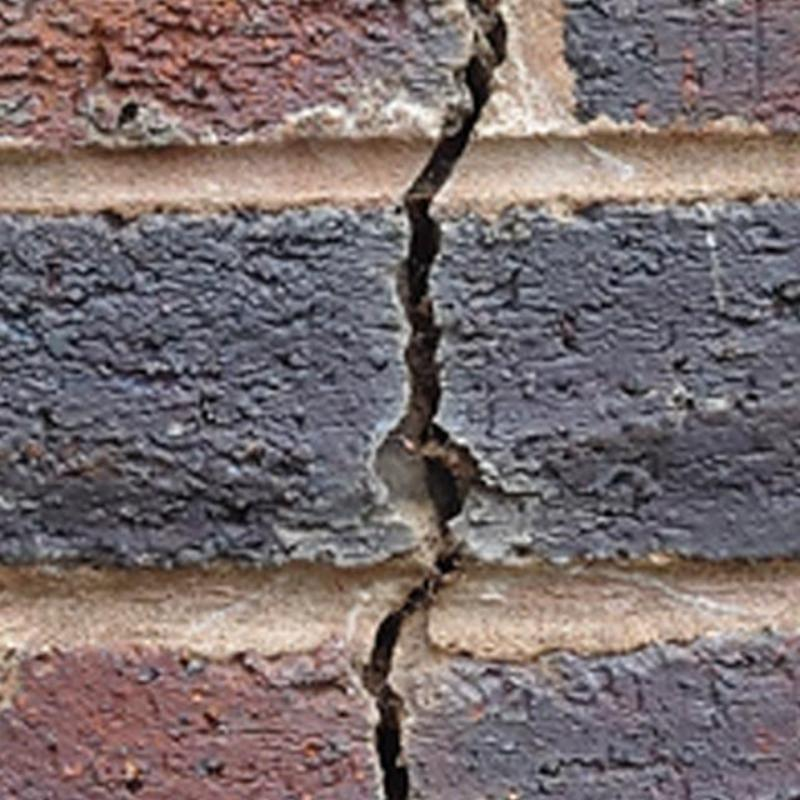crack: (362, 0, 506, 800)
